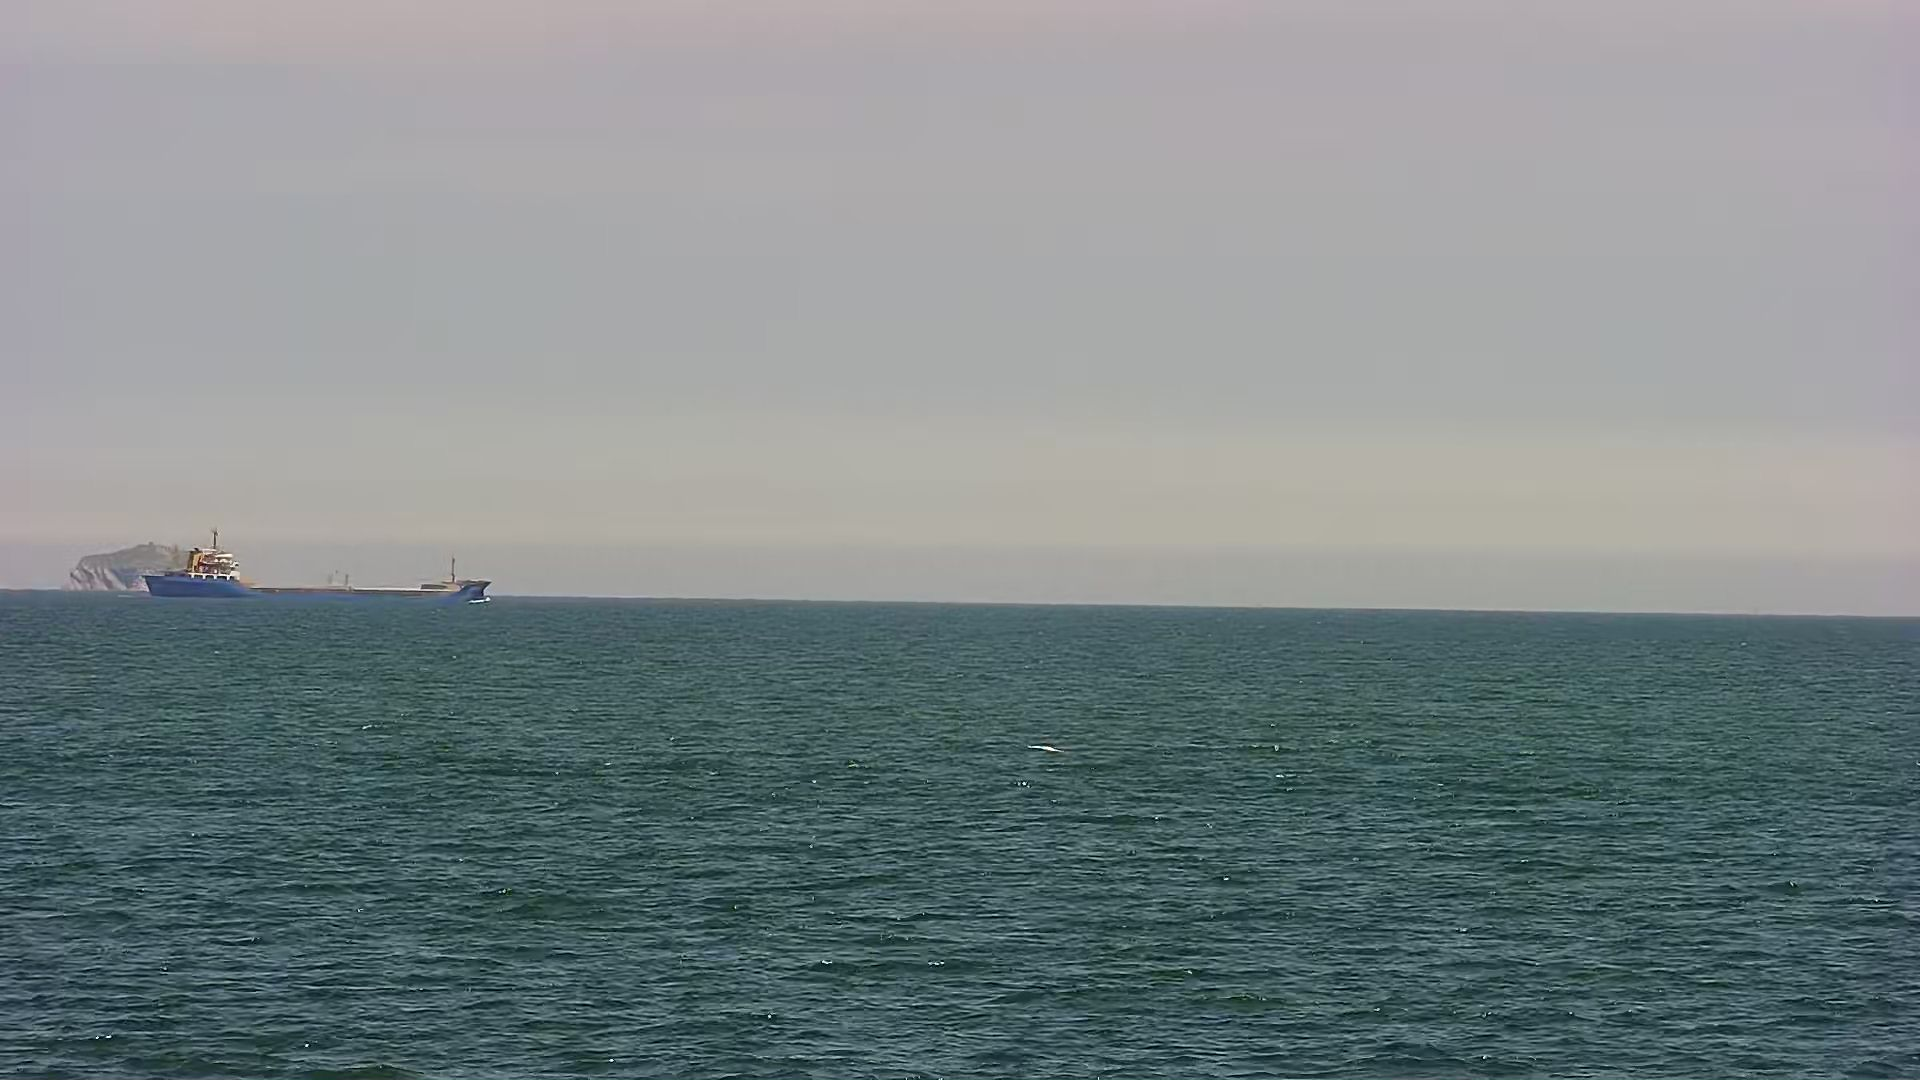rock: (55, 530, 229, 593)
ship: (145, 521, 510, 615)
